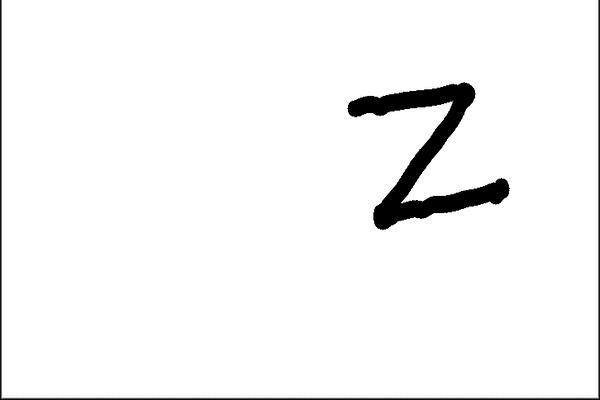Z: (331, 74, 523, 234)
